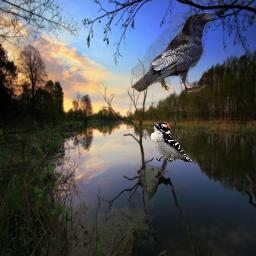Crow: (131, 12, 214, 92)
Woodpecker: (150, 122, 192, 162)
